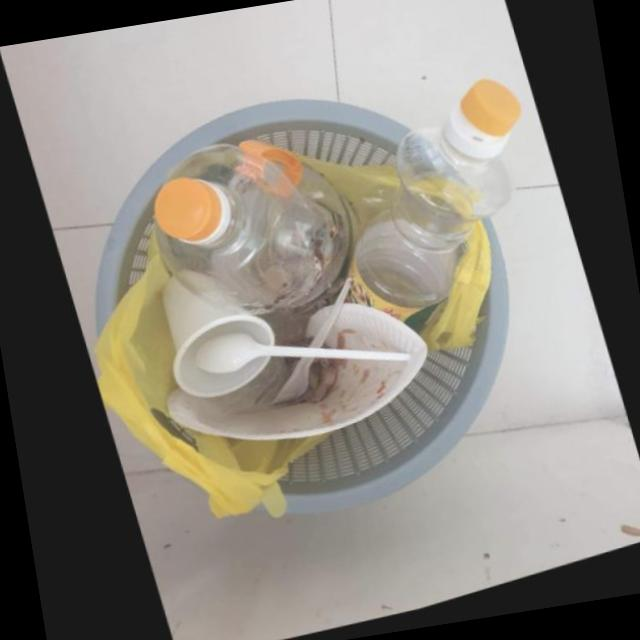carton: (160, 281, 423, 444)
chai_nhua_pet: (339, 85, 519, 328), (149, 142, 356, 321)
hop_nhua: (157, 277, 270, 401)
thuc_an_thua: (286, 362, 343, 410)
